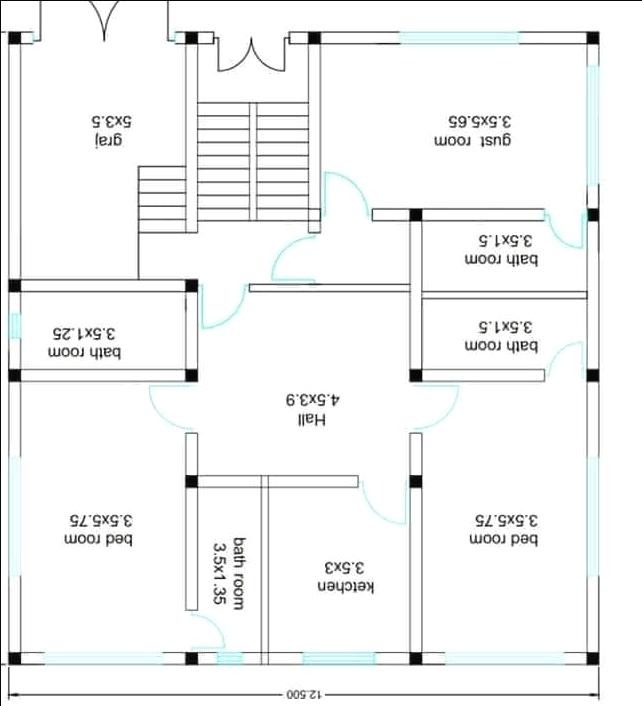Blueprint: (0, 25, 604, 671)
wall: (4, 37, 24, 282), (180, 40, 199, 237), (304, 39, 322, 238), (194, 470, 361, 491), (17, 365, 189, 384), (582, 215, 602, 371), (17, 276, 188, 294), (406, 486, 424, 654), (405, 217, 424, 372), (245, 278, 415, 295), (257, 470, 271, 670), (418, 364, 546, 385), (418, 205, 546, 224), (418, 288, 590, 302), (182, 485, 200, 613), (316, 27, 402, 47), (4, 378, 24, 461), (4, 570, 23, 656), (583, 379, 602, 462), (239, 647, 307, 670), (512, 27, 589, 47), (182, 287, 200, 372), (583, 572, 601, 654), (406, 428, 425, 478), (182, 427, 200, 478), (367, 204, 410, 223), (4, 333, 23, 373), (371, 649, 411, 667), (17, 648, 48, 668), (4, 286, 23, 317), (159, 648, 188, 668), (582, 178, 600, 210), (581, 40, 601, 68), (419, 648, 447, 667), (561, 648, 589, 667), (196, 647, 220, 668), (284, 29, 310, 46), (193, 29, 217, 46), (17, 29, 36, 47), (170, 28, 188, 47)
